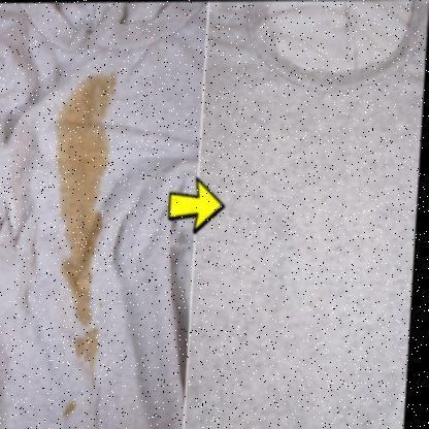coffee: (59, 86, 107, 242), (76, 251, 90, 311)
